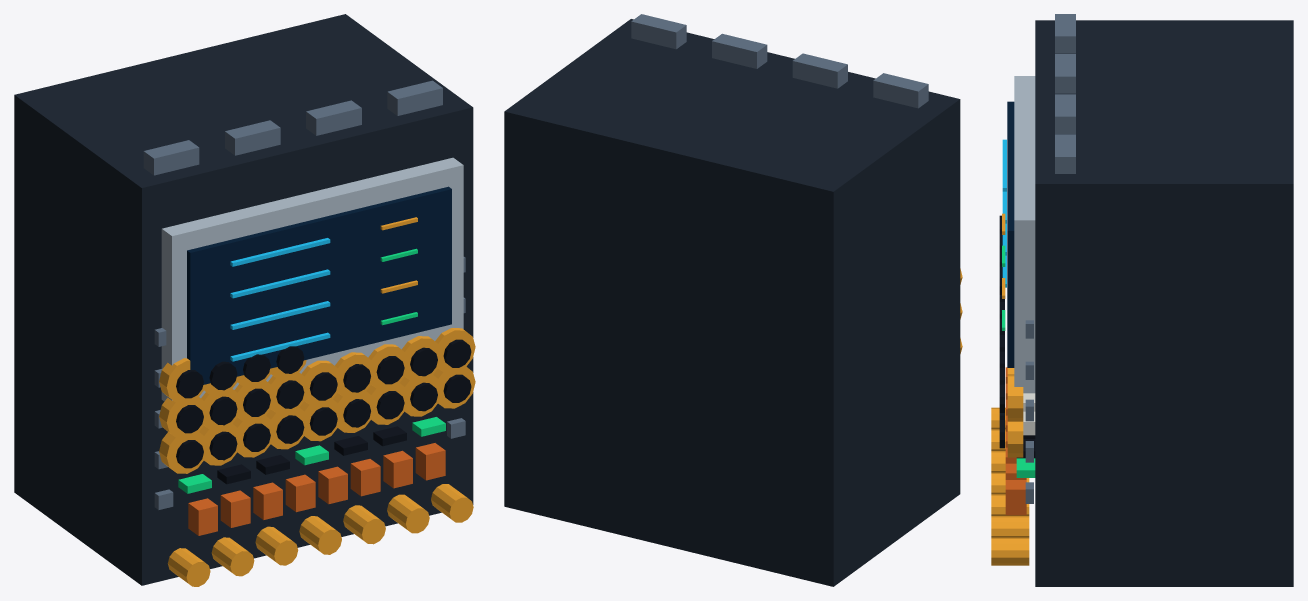
Rendered from 74_L87_MagneticBearingControlPLC.fbx.
3 views of the same model, side by side, from view 1: azimuth 30°, elevation 25°; view 2: azimuth 150°, elevation 25°; view 3: azimuth 270°, elevation 25° (orthographic).
Parts seen in each view (by area): view 1: L87_MagneticBearingControlPLC, L87_MagneticBearingControlPLC_Part_0010, L87_MagneticBearingControlPLC_Part_0028, L87_MagneticBearingControlPLC_Part_0046, L87_MagneticBearingControlPLC_Part_0044, L87_MagneticBearingControlPLC_Part_0014, L87_MagneticBearingControlPLC_Part_0042, L87_MagneticBearingControlPLC_Part_0040, L87_MagneticBearingControlPLC_Part_0016, L87_MagneticBearingControlPLC_Part_0018, L87_MagneticBearingControlPLC_Part_0038, L87_MagneticBearingControlPLC_Part_0012 (+30 smaller); view 2: L87_MagneticBearingControlPLC; view 3: L87_MagneticBearingControlPLC, L87_MagneticBearingControlPLC_Part_0044, L87_MagneticBearingControlPLC_Part_0026.
Part boxes in pixels (bbox=[...]): L87_MagneticBearingControlPLC: bbox=[14, 14, 473, 586]; L87_MagneticBearingControlPLC_Part_0010: bbox=[159, 431, 207, 473]; L87_MagneticBearingControlPLC_Part_0028: bbox=[159, 396, 207, 437]; L87_MagneticBearingControlPLC_Part_0046: bbox=[159, 358, 206, 403]; L87_MagneticBearingControlPLC_Part_0044: bbox=[435, 328, 475, 373]; L87_MagneticBearingControlPLC_Part_0014: bbox=[232, 414, 274, 457]; L87_MagneticBearingControlPLC_Part_0042: bbox=[402, 336, 441, 380]; L87_MagneticBearingControlPLC_Part_0040: bbox=[368, 344, 408, 389]; L87_MagneticBearingControlPLC_Part_0016: bbox=[266, 406, 308, 449]; L87_MagneticBearingControlPLC_Part_0018: bbox=[299, 398, 341, 441]; L87_MagneticBearingControlPLC_Part_0038: bbox=[335, 352, 375, 397]; L87_MagneticBearingControlPLC_Part_0012: bbox=[199, 422, 241, 465]; L87_MagneticBearingControlPLC: bbox=[504, 14, 960, 586]; L87_MagneticBearingControlPLC: bbox=[991, 14, 1293, 586]; L87_MagneticBearingControlPLC_Part_0044: bbox=[1007, 374, 1023, 421]; L87_MagneticBearingControlPLC_Part_0026: bbox=[1007, 421, 1023, 457].
Bounding box in the file's own units: 104 × 124 × 81.09.
